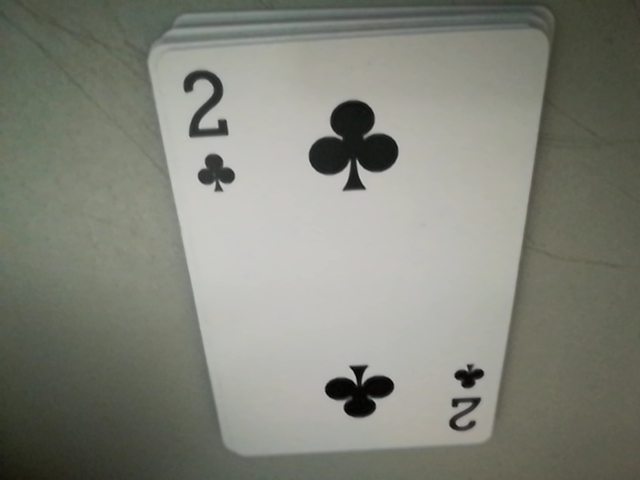mh 2: (173, 53, 243, 201), (444, 359, 492, 438)
